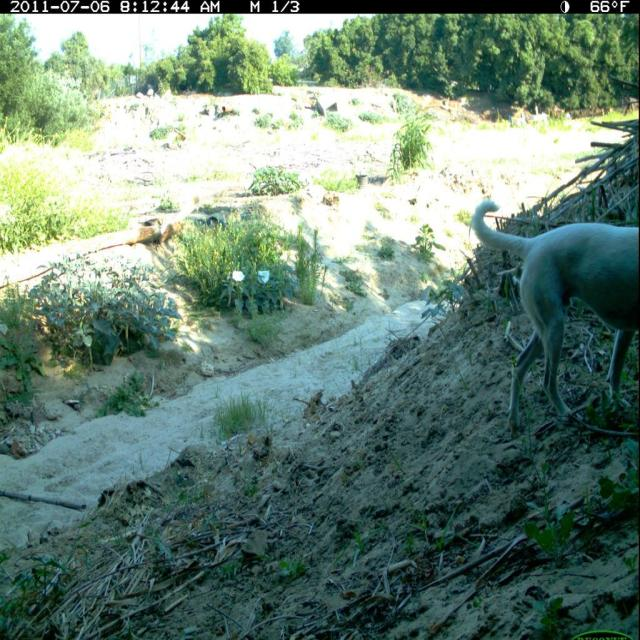dog: (471, 199, 640, 424)
